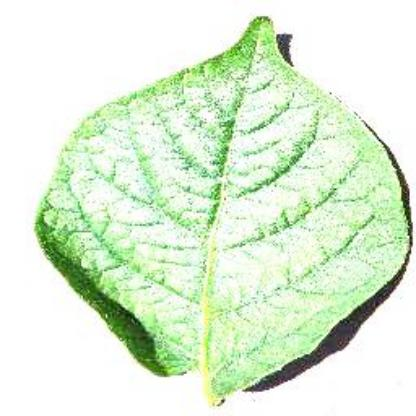Healthy-plant: (32, 14, 412, 406)
